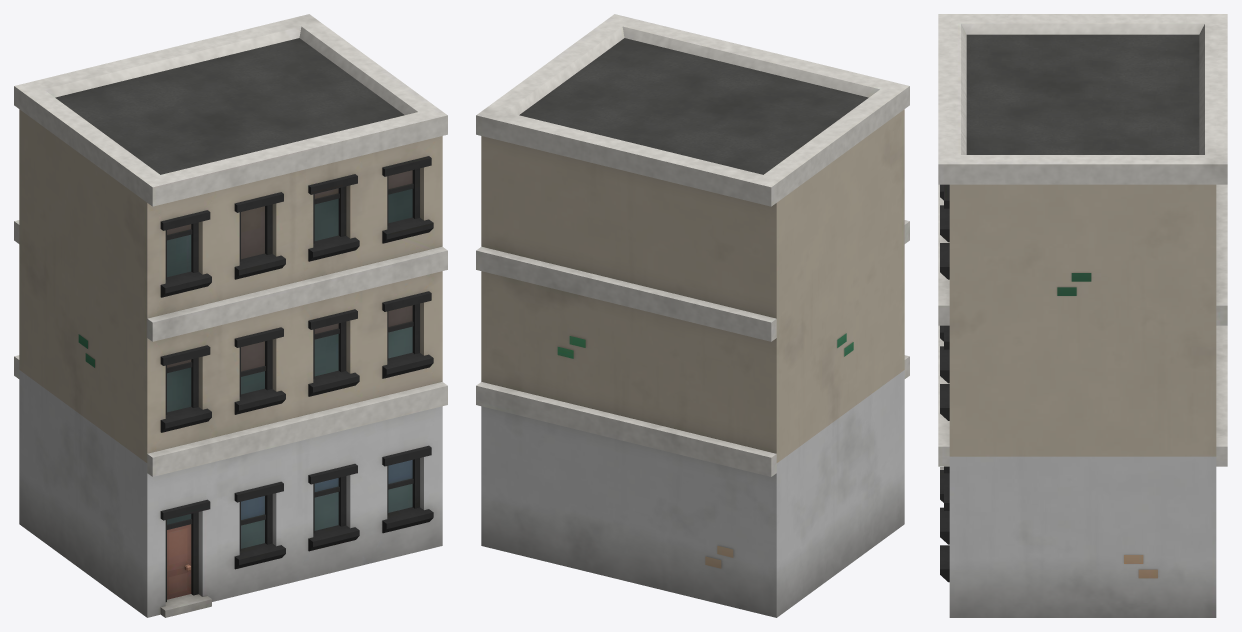
The model's file is building_D.glb.
3 views of the same model, side by side, from view 1: azimuth 30°, elevation 25°; view 2: azimuth 150°, elevation 25°; view 3: azimuth 270°, elevation 25° (orthographic). The views are drawn at different scales.
Parts seen in each view (by area): view 1: building_D_withoutBase; view 2: building_D_withoutBase; view 3: building_D_withoutBase.
Boxes of the visible parts, x1,y1,x2,y2 form: building_D_withoutBase: [14, 14, 447, 617]; building_D_withoutBase: [476, 14, 909, 617]; building_D_withoutBase: [938, 14, 1227, 617].
Bounding box in the file's own units: 1.61 × 2.25 × 1.3.
2 materials, 2 textured.
